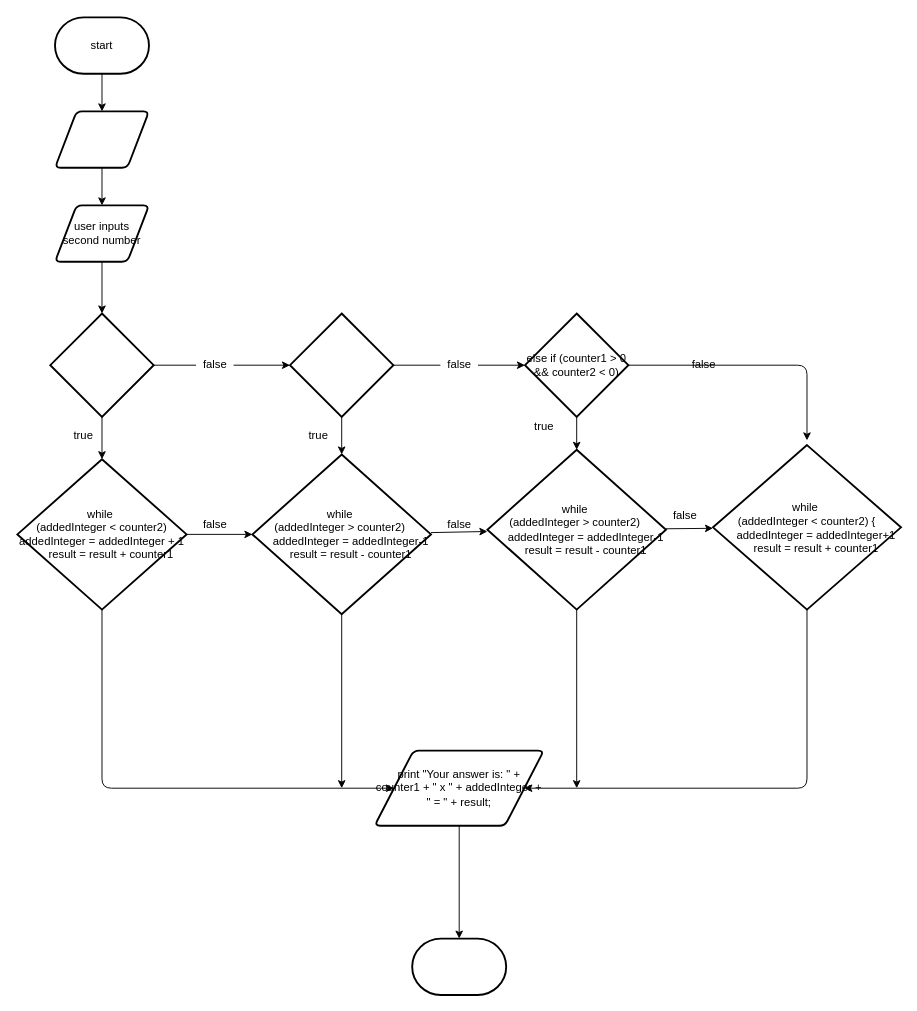
Some shapes in this 917 by 1011 pixel diagram are drawn without their labels. Each missing label, with the centre of its shape:
else if (counter1 < 0 && counter2 < 0): point (341, 364)
if (counter1 > 0 && counter2 > 0): point (101, 364)
stop: point (459, 966)
user inputs first number: point (101, 139)
